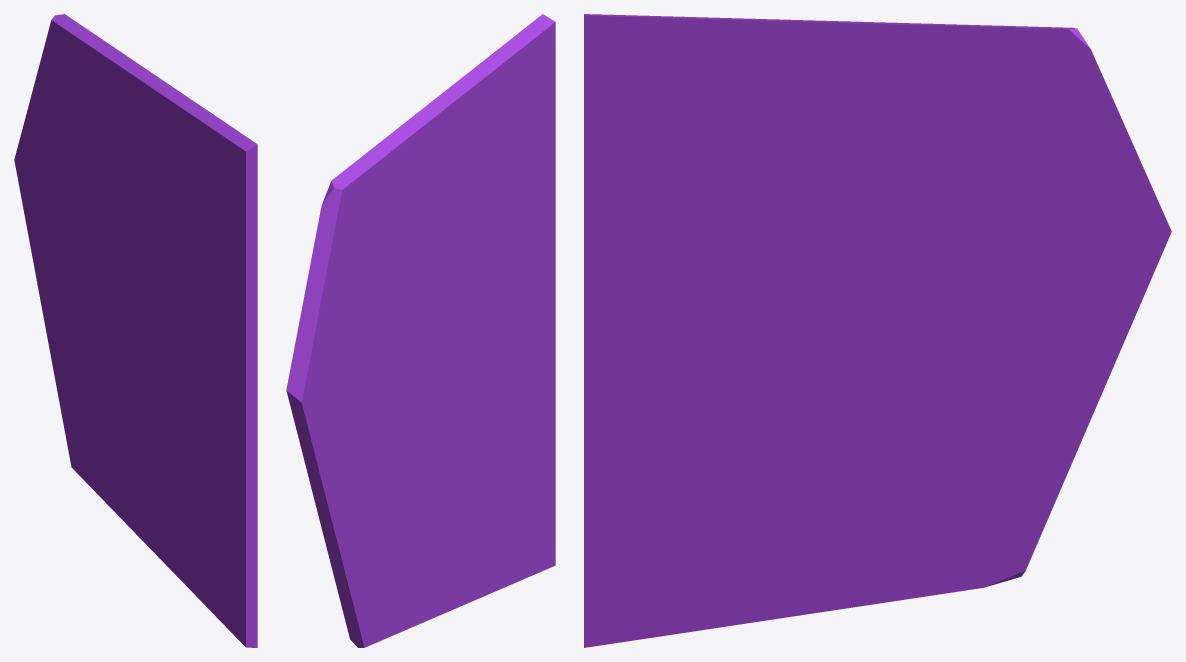
Rendered from Glass_84_0_10_chunks.fbx.
3 views of the same model, side by side, from view 1: azimuth 30°, elevation 25°; view 2: azimuth 150°, elevation 25°; view 3: azimuth 270°, elevation 25° (orthographic). The views are drawn at different scales.
Visible parts, largest first — view 1: Glass_84_0_10_6, Glass_84_0_10_15, Glass_84_0_10_2, Glass_84_0_10_7, Glass_84_0_10_9, Glass_84_0_10_16, Glass_84_0_10_3, Glass_84_0_10_18, Glass_84_0_10_20, Glass_84_0_10_4, Glass_84_0_10_10, Glass_84_0_10_19 (+8 smaller); view 2: Glass_84_0_10_6, Glass_84_0_10_2, Glass_84_0_10_9, Glass_84_0_10_7, Glass_84_0_10_15, Glass_84_0_10_3, Glass_84_0_10_16, Glass_84_0_10_18, Glass_84_0_10_20, Glass_84_0_10_4, Glass_84_0_10_10, Glass_84_0_10_17 (+9 smaller); view 3: Glass_84_0_10_2, Glass_84_0_10_7, Glass_84_0_10_6, Glass_84_0_10_15, Glass_84_0_10_9, Glass_84_0_10_16, Glass_84_0_10_3, Glass_84_0_10_17, Glass_84_0_10_5, Glass_84_0_10_4, Glass_84_0_10_20, Glass_84_0_10_18 (+7 smaller).
Boxes of the visible parts, box(x1,y1,x2,y2) form: Glass_84_0_10_6: box(100, 69, 232, 255); Glass_84_0_10_15: box(181, 451, 257, 647); Glass_84_0_10_2: box(18, 183, 100, 424); Glass_84_0_10_7: box(14, 124, 133, 275); Glass_84_0_10_9: box(24, 14, 131, 154); Glass_84_0_10_16: box(165, 334, 257, 454); Glass_84_0_10_3: box(63, 405, 164, 562); Glass_84_0_10_18: box(169, 231, 255, 373); Glass_84_0_10_20: box(196, 128, 257, 249); Glass_84_0_10_4: box(94, 262, 146, 465); Glass_84_0_10_10: box(122, 323, 166, 481); Glass_84_0_10_19: box(214, 229, 257, 362); Glass_84_0_10_6: box(396, 35, 527, 316); Glass_84_0_10_2: box(293, 386, 396, 614); Glass_84_0_10_9: box(294, 123, 423, 347); Glass_84_0_10_7: box(286, 258, 432, 420); Glass_84_0_10_15: box(484, 351, 555, 595); Glass_84_0_10_3: box(343, 523, 465, 647); Glass_84_0_10_16: box(467, 265, 555, 438); Glass_84_0_10_18: box(472, 175, 555, 332); Glass_84_0_10_20: box(501, 14, 555, 175); Glass_84_0_10_4: box(389, 380, 447, 525); Glass_84_0_10_10: box(420, 380, 468, 537); Glass_84_0_10_17: box(450, 484, 489, 603); Glass_84_0_10_2: box(938, 268, 1155, 536); Glass_84_0_10_7: box(862, 156, 1171, 306); Glass_84_0_10_6: box(646, 15, 927, 248); Glass_84_0_10_15: box(584, 401, 737, 647); Glass_84_0_10_9: box(886, 22, 1152, 188); Glass_84_0_10_16: box(584, 288, 796, 453); Glass_84_0_10_3: box(789, 467, 1040, 616); Glass_84_0_10_17: box(719, 419, 829, 624); Glass_84_0_10_5: box(716, 93, 861, 314); Glass_84_0_10_4: box(834, 299, 963, 507); Glass_84_0_10_20: box(584, 14, 699, 147); Glass_84_0_10_18: box(589, 171, 736, 300).
Size of the model in its own units: 27.2 by 1121 by 944.
